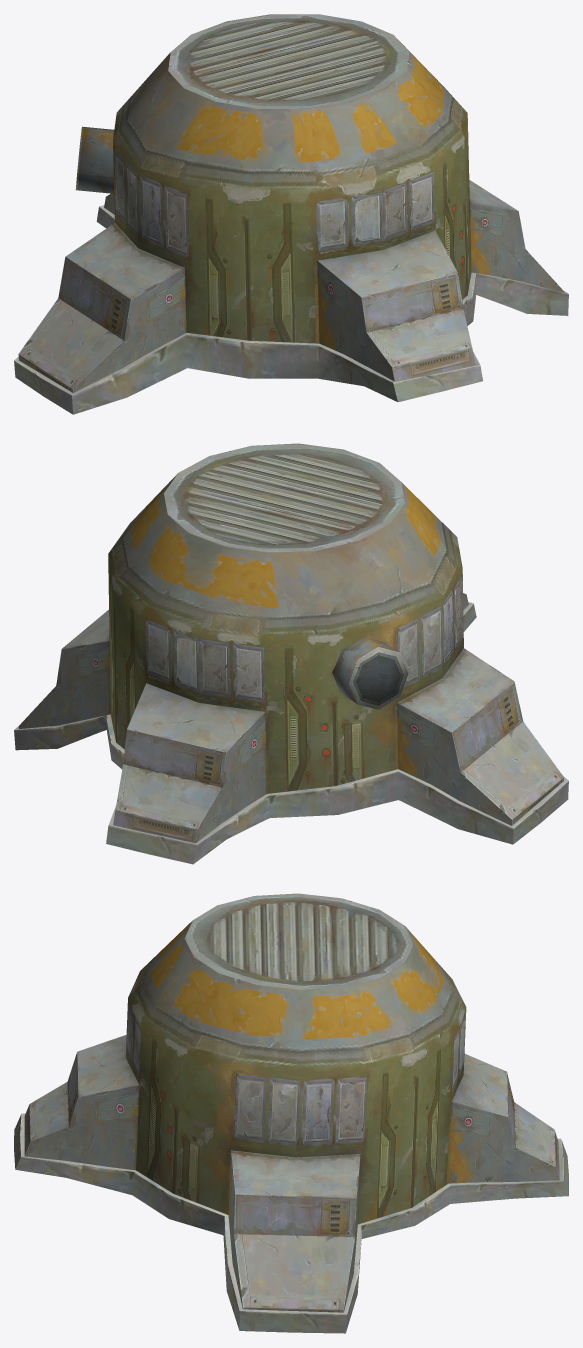
File: all_arch_und_med_center_vent.glb
3 renders of one model, top to bottom at view 1: azimuth 30°, elevation 25°; view 2: azimuth 150°, elevation 25°; view 3: azimuth 270°, elevation 25°, orthographic. The views are drawn at different scales.
Parts seen in each view (by area): view 1: all_arch_und_med_center_vent; view 2: all_arch_und_med_center_vent; view 3: all_arch_und_med_center_vent.
Boxes of the visible parts, <box> form: all_arch_und_med_center_vent: <box>14,14,568,414</box>; all_arch_und_med_center_vent: <box>14,443,568,864</box>; all_arch_und_med_center_vent: <box>14,893,568,1333</box>.
Size of the model in its own units: 1.54 by 0.88 by 1.57.
2 materials, 2 textured.
